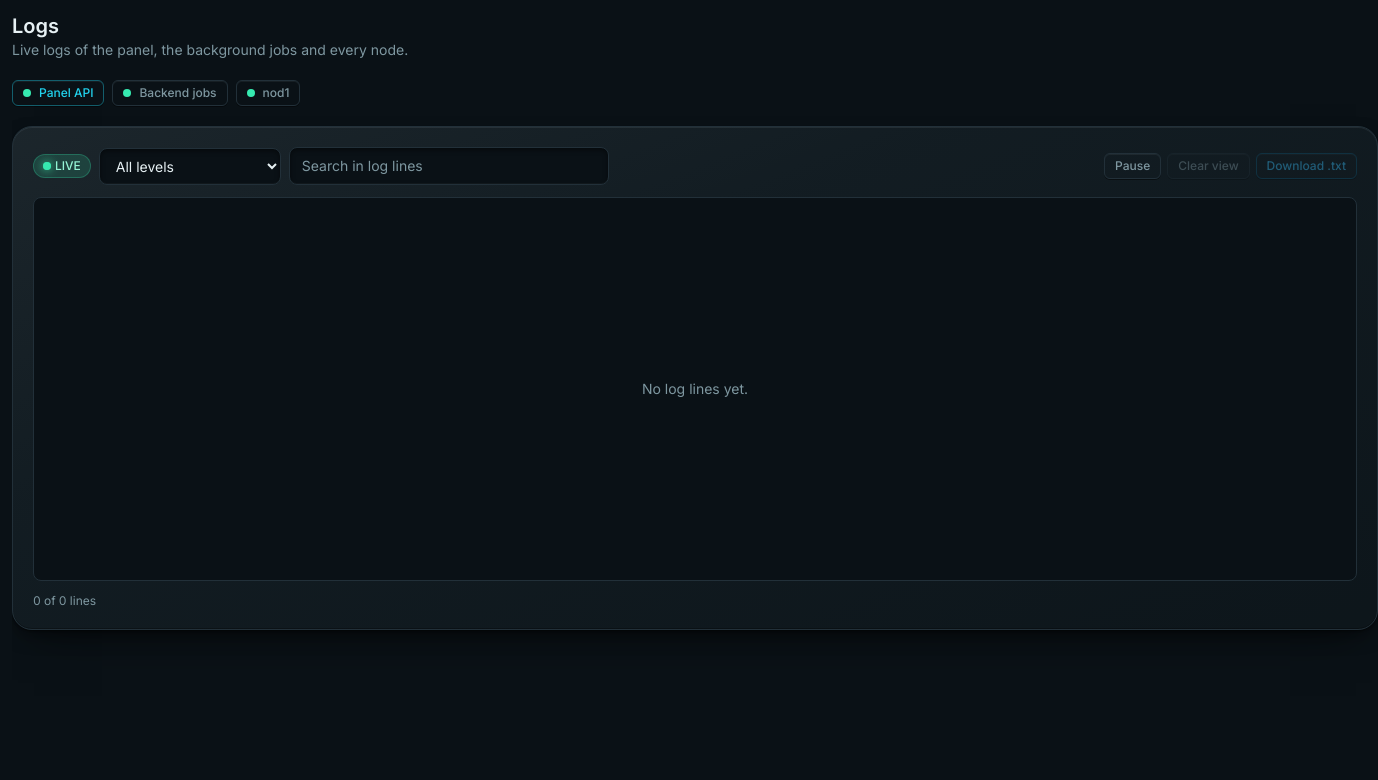
it: Logs page rendering › falls back to the raw text for a line that is not JSON
Click the button "nod1" at [268, 93], box [236,80,300,106]
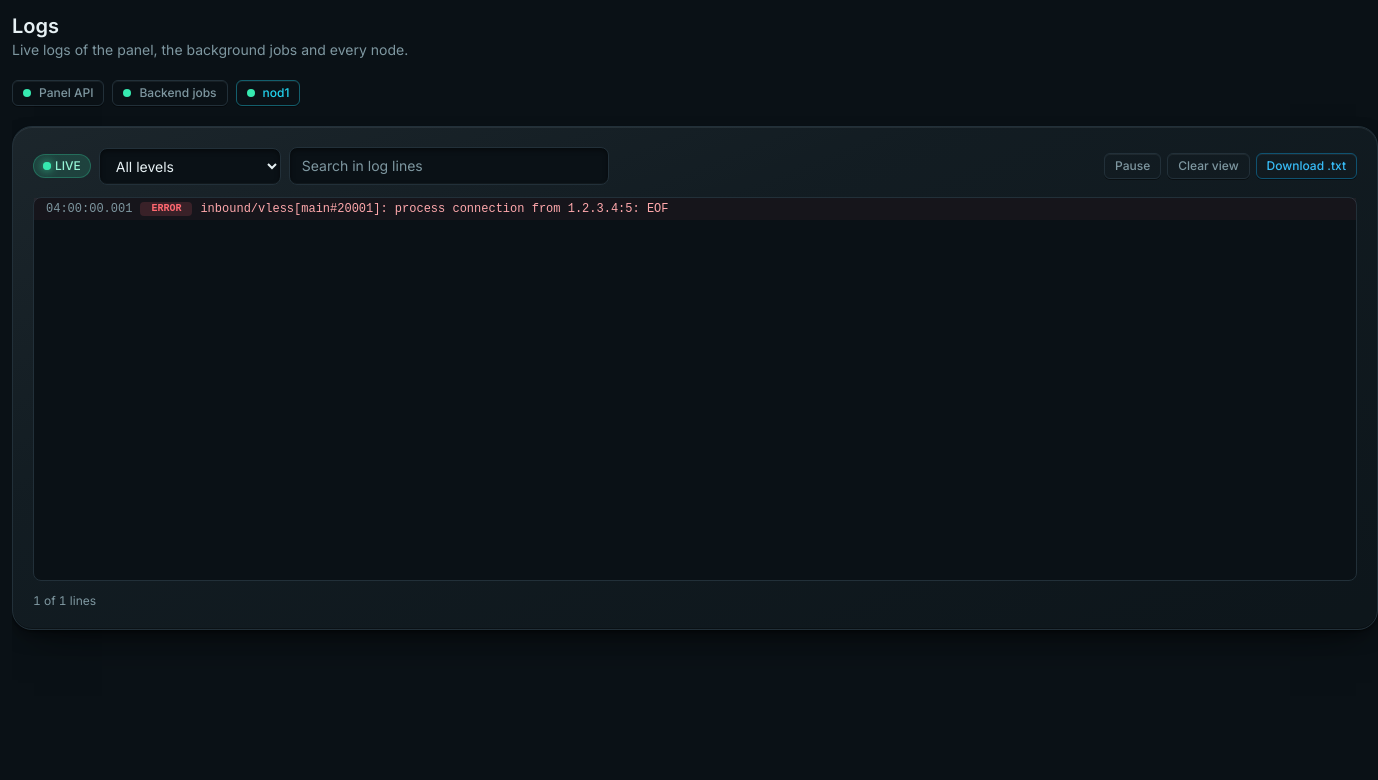
Expected: the text "inbound/vless[main#20001]: process connection from 1.2.3.4:5: EOF" is shown, [200,203,668,215]
